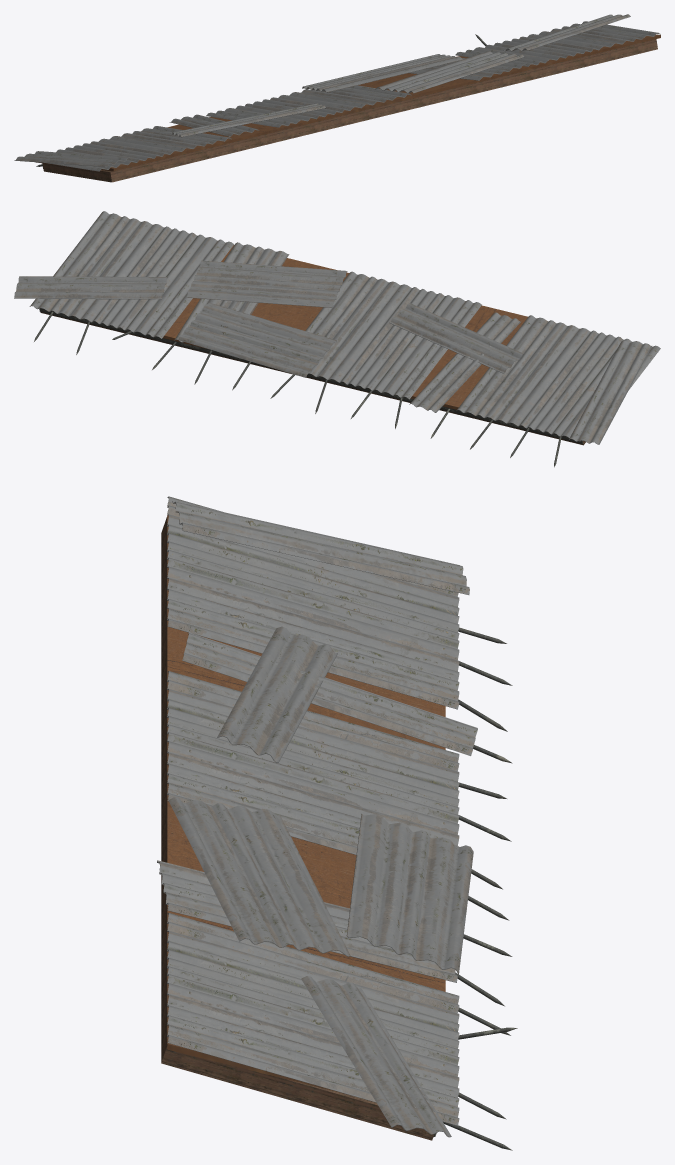
The model's file is Prop_Balcony_Roof.fbx.
The picture shows the model from 3 angles, top to bottom: view 1: azimuth 30°, elevation 25°; view 2: azimuth 150°, elevation 25°; view 3: azimuth 270°, elevation 25°; orthographic projection. The views are drawn at different scales.
Parts seen in each view (by area): view 1: Prop_Balcony_Roof; view 2: Prop_Balcony_Roof; view 3: Prop_Balcony_Roof.
Part boxes in pixels (left/top/right/bottom): Prop_Balcony_Roof: left=14, top=14, right=660, bottom=182; Prop_Balcony_Roof: left=14, top=211, right=660, bottom=467; Prop_Balcony_Roof: left=157, top=496, right=517, bottom=1150.
Bounding box in the file's own units: 499 × 57.49 × 131.
